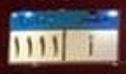1: (52, 35, 60, 58), (39, 35, 47, 58), (13, 35, 21, 58), (26, 36, 33, 60)
alif: (86, 34, 95, 58)
